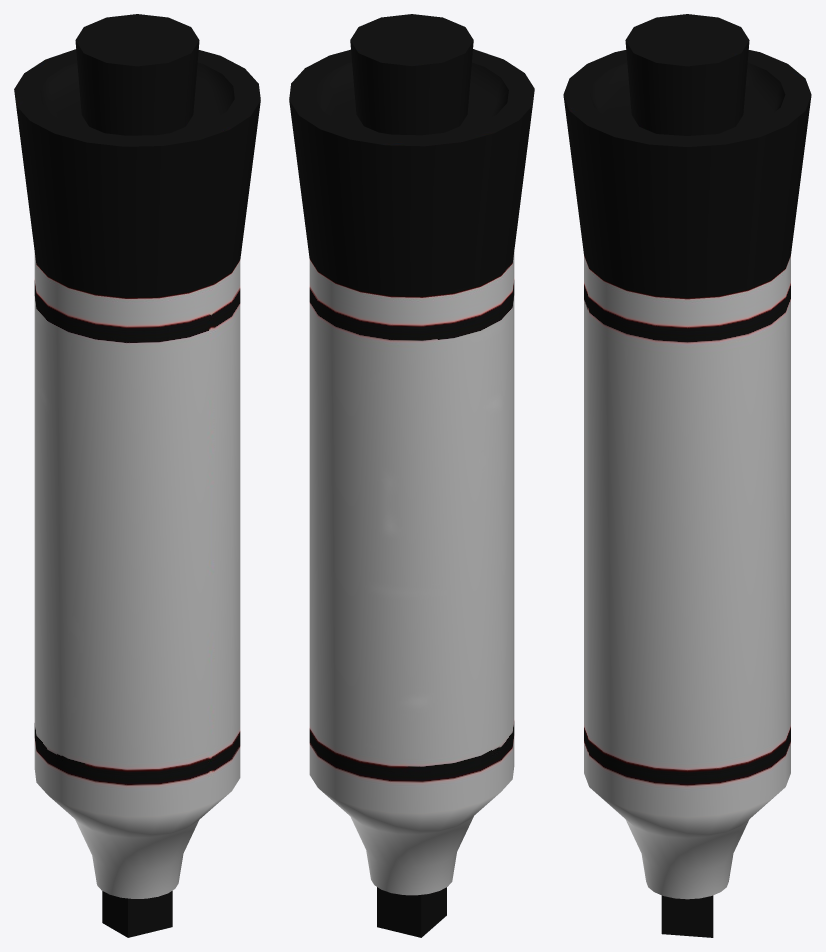
Rendered from DrawingPen.glb.
The picture shows the model from 3 angles, left to right: view 1: azimuth 30°, elevation 25°; view 2: azimuth 150°, elevation 25°; view 3: azimuth 270°, elevation 25°; orthographic projection.
Visible parts, largest first — view 1: DrawingPenShape; view 2: DrawingPenShape; view 3: DrawingPenShape.
Part boxes in pixels (x1,y1,x2,y2): DrawingPenShape: (14,14,260,937); DrawingPenShape: (289,14,534,937); DrawingPenShape: (563,14,811,937).
Bounding box in the file's own units: 0.096 × 0.3786 × 0.096.
1 material, 1 textured.
